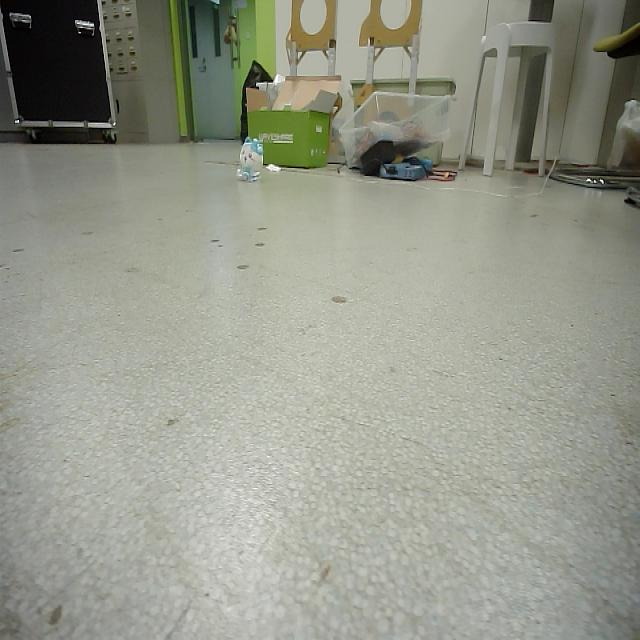xiaoba: (232, 135, 267, 184)
